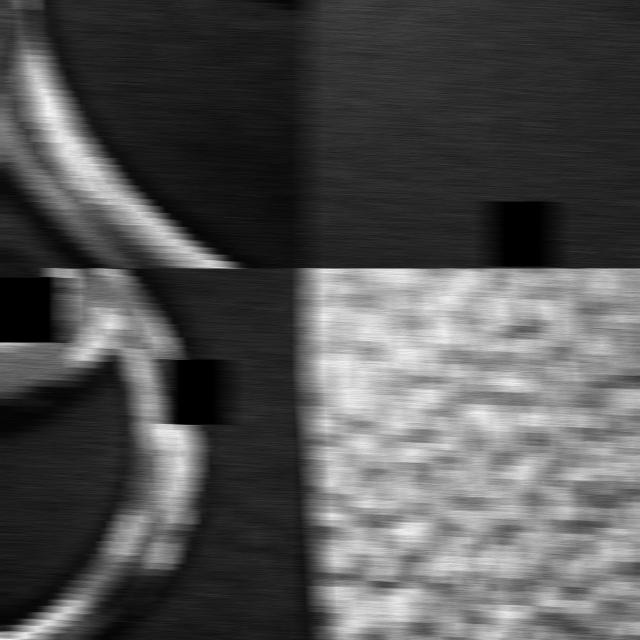Airbag: (303, 268, 640, 640), (0, 268, 311, 640), (303, 0, 640, 268), (0, 0, 311, 268)
